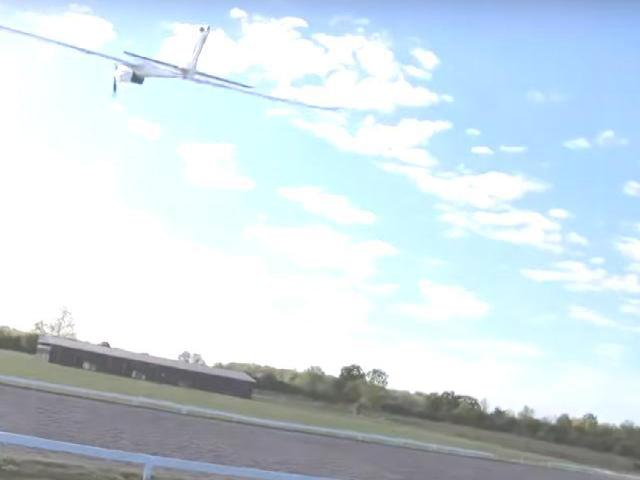iha: (0, 5, 340, 111)
